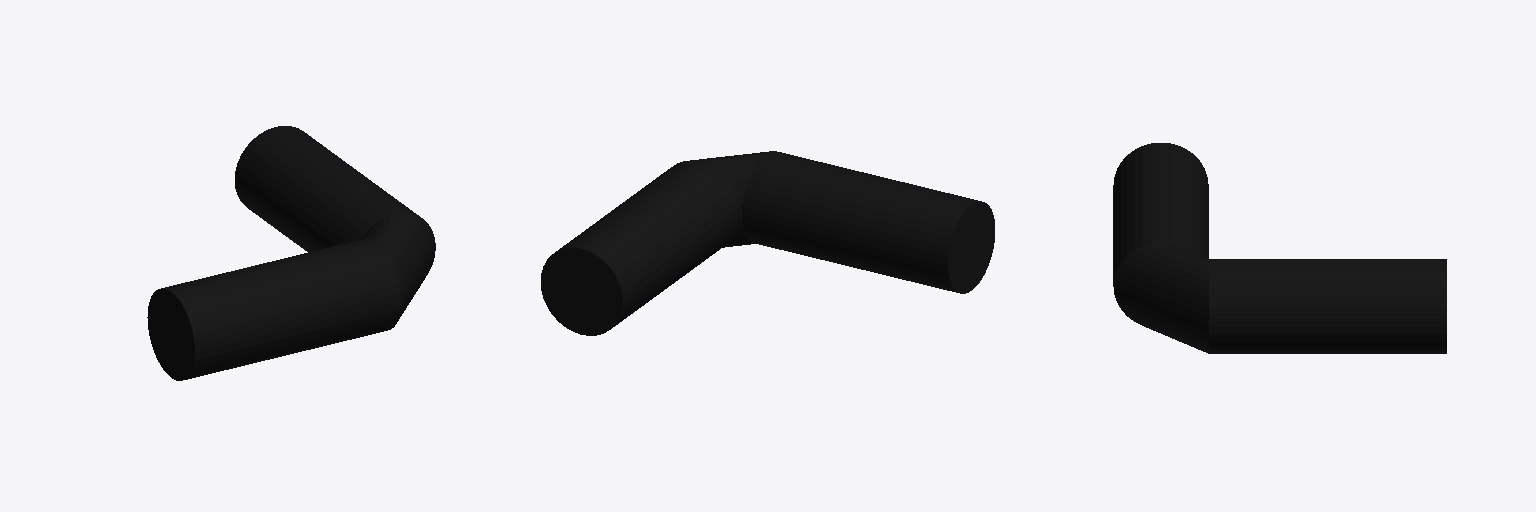
File: fence_corner.obj
3 renders of one model, left to right at view 1: azimuth 30°, elevation 25°; view 2: azimuth 150°, elevation 25°; view 3: azimuth 270°, elevation 25°, orthographic.
Parts seen in each view (by area): view 1: Cylinder.003_Cylinder.004; view 2: Cylinder.003_Cylinder.004; view 3: Cylinder.003_Cylinder.004.
Boxes of the visible parts, x1=… form: Cylinder.003_Cylinder.004: x1=147, y1=126, x2=435, y2=380; Cylinder.003_Cylinder.004: x1=541, y1=151, x2=994, y2=335; Cylinder.003_Cylinder.004: x1=1113, y1=143, x2=1446, y2=353.
Size of the model in its own units: 1.4 by 0.4 by 1.4.